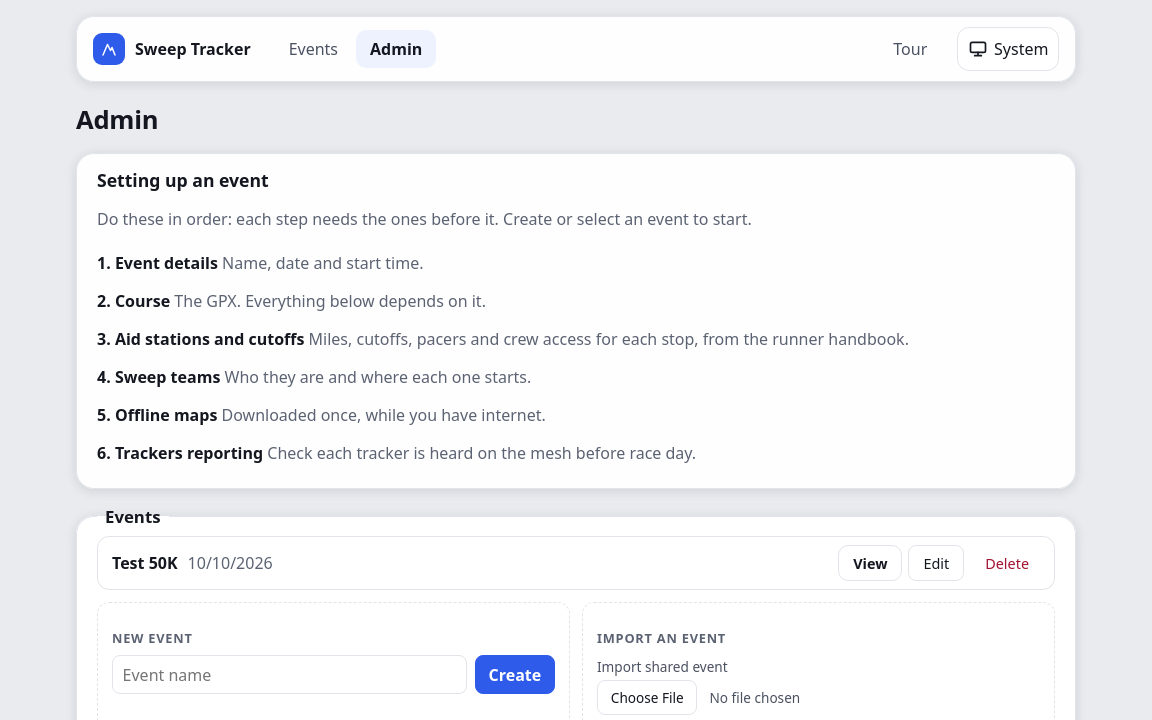
Test case: MapsPanel via admin › starts a refresh and shows progress, then errors
Click the button with aria-label "Edit Test 50K" at (936, 563), box [908,545,964,581]
(page scrolled)
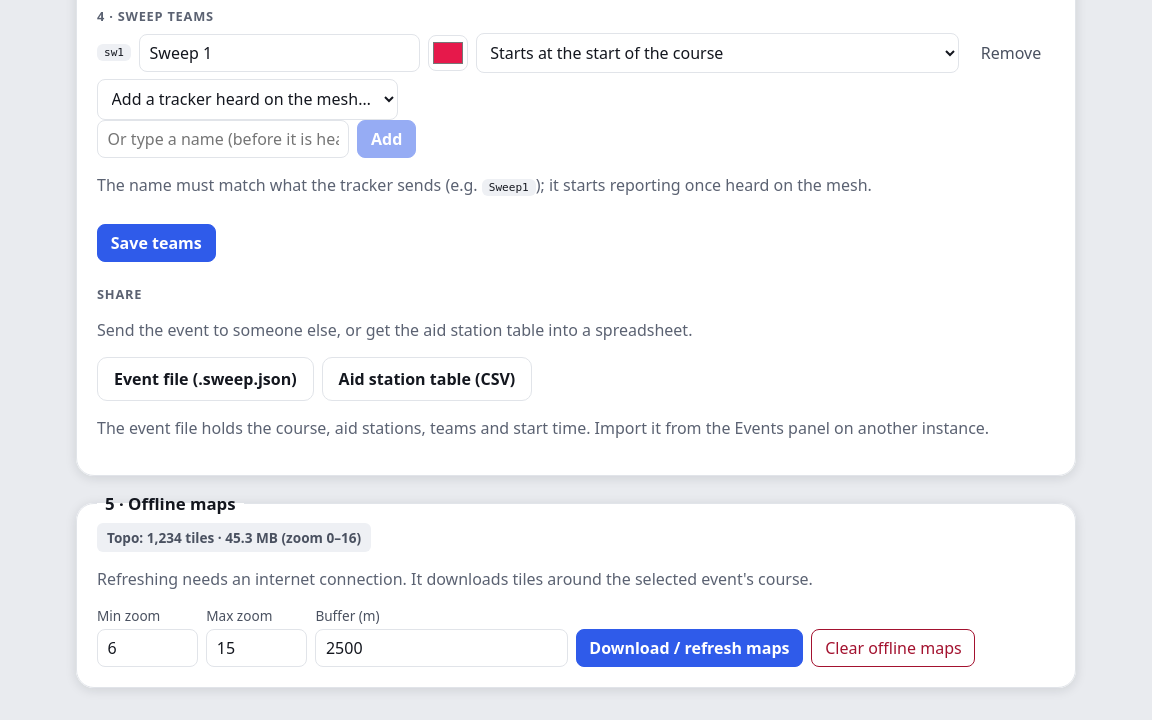
Replace the text in the number field labelled "Min zoom" with "9" at (148, 648), box [97,629,198,667]
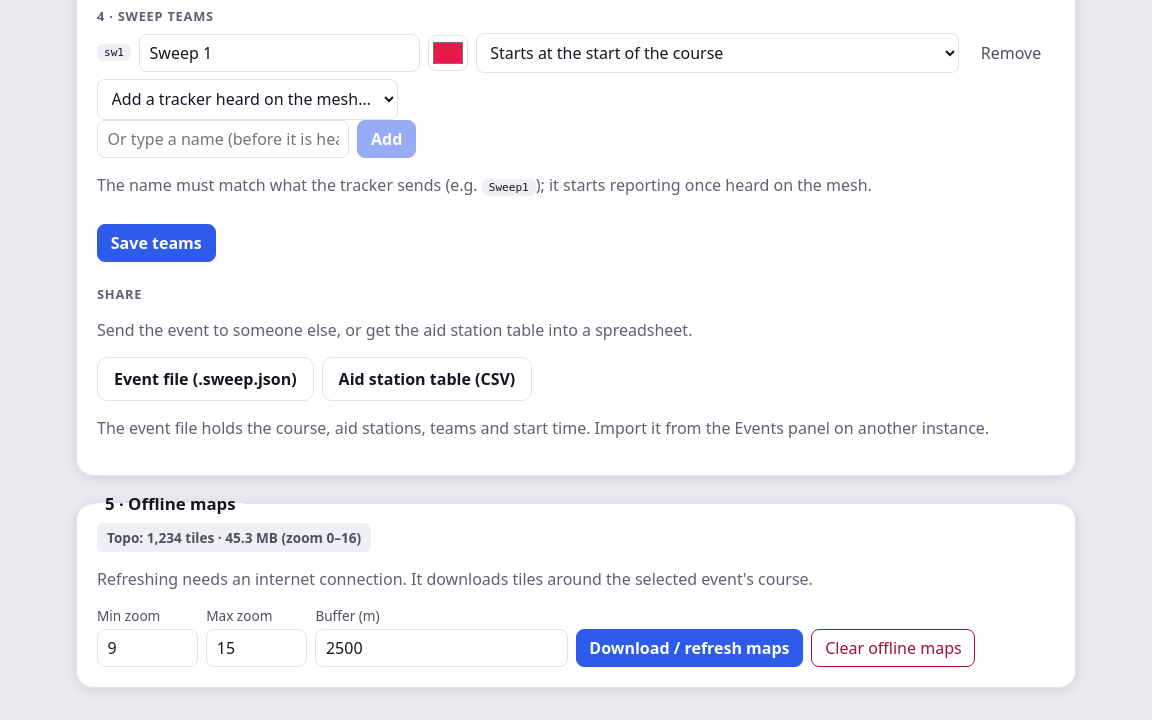
Replace the text in the number field labelled "Max zoom" with "12" at (257, 648), box [206,629,307,667]
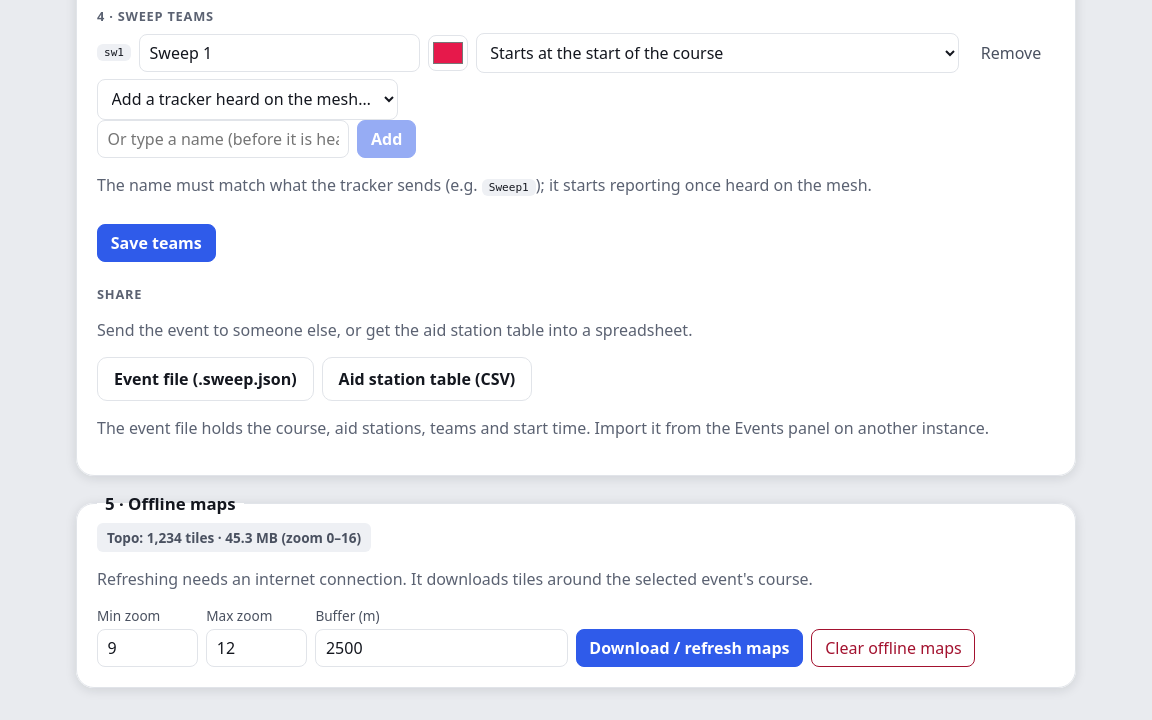
Replace the text in the number field labelled "Buffer (m)" with "500" at (442, 648), box [315,629,568,667]
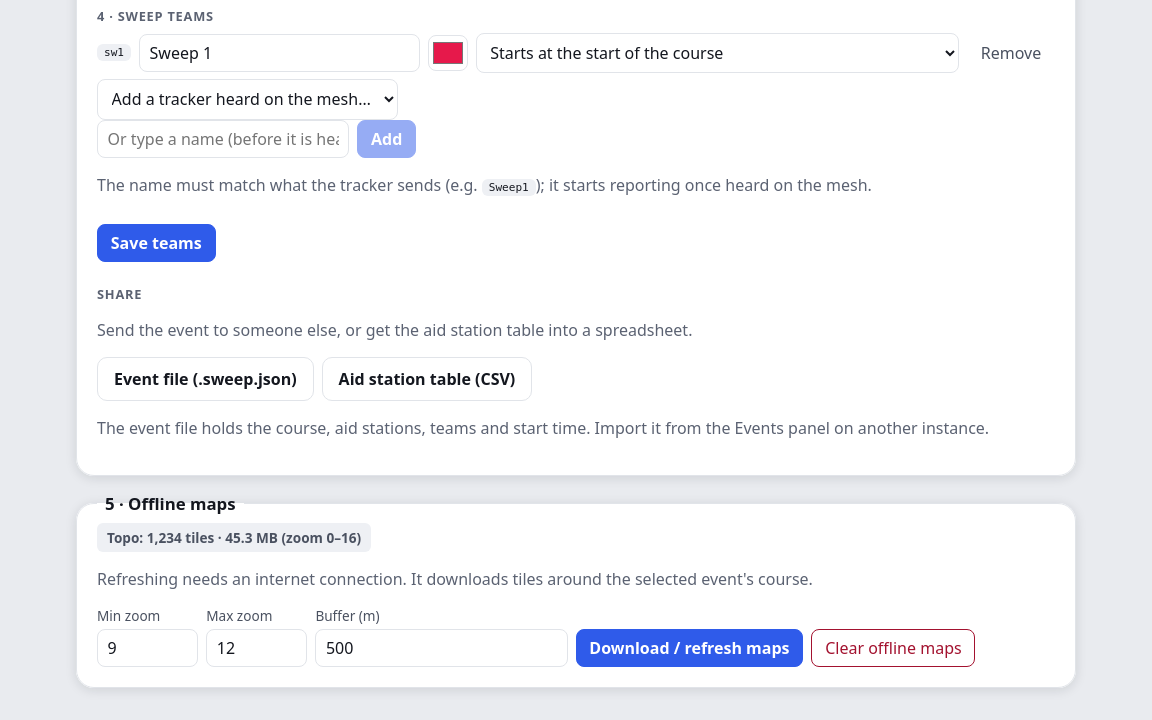
Click the button "Download / refresh maps" at (690, 648), box [576,629,803,667]
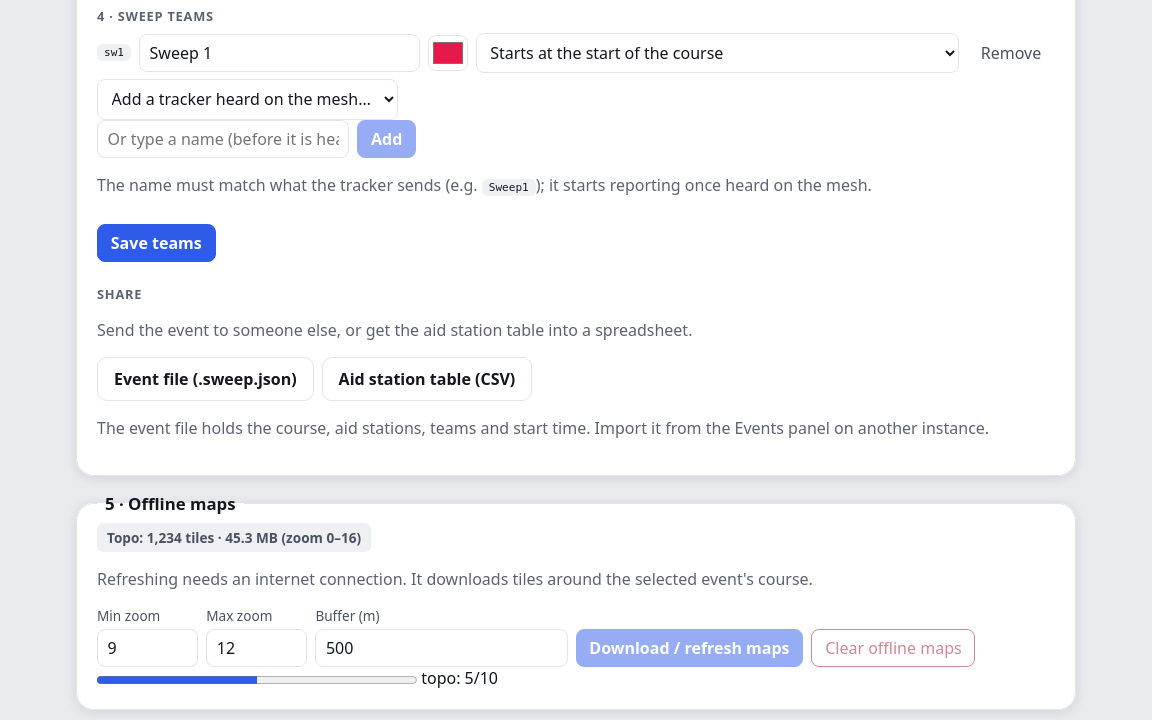
expect the text "topo: 5/10" is shown: met, box [417,667,498,689]
